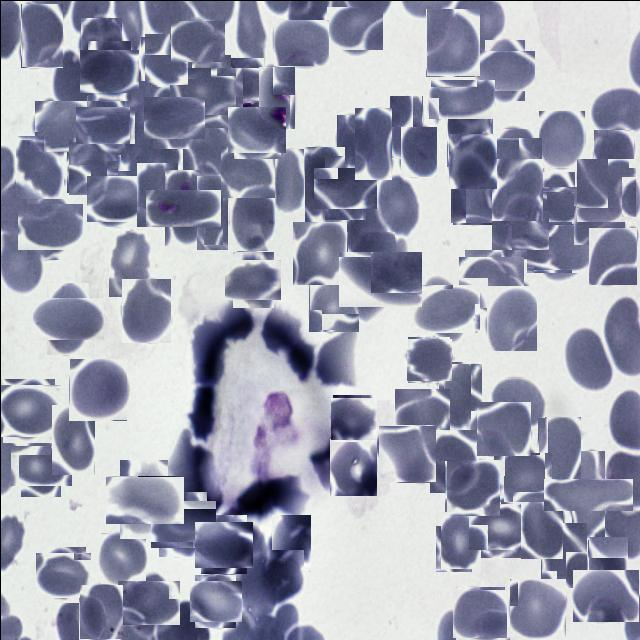red blood cell: (346, 244, 414, 314), (111, 467, 176, 530), (575, 158, 637, 220), (557, 464, 618, 525), (425, 8, 479, 76), (176, 60, 236, 121), (68, 358, 126, 420), (414, 278, 474, 337), (507, 579, 566, 638), (530, 218, 590, 276), (572, 569, 638, 621), (292, 221, 346, 284), (462, 252, 520, 310), (0, 381, 57, 440), (394, 388, 449, 449), (486, 285, 536, 350), (38, 290, 96, 346), (378, 424, 434, 482), (122, 278, 172, 342), (308, 267, 358, 331), (154, 179, 211, 235), (491, 158, 542, 220), (14, 135, 63, 199), (22, 198, 78, 254), (154, 496, 210, 552), (437, 361, 481, 432), (304, 146, 344, 224), (429, 429, 478, 492), (444, 459, 500, 514), (537, 416, 580, 487), (540, 522, 586, 588), (229, 183, 274, 250), (51, 404, 94, 474), (374, 172, 420, 237), (495, 449, 549, 504), (121, 576, 176, 630), (572, 188, 624, 245), (471, 499, 525, 553), (476, 401, 530, 455), (565, 328, 612, 390), (182, 117, 232, 175), (341, 200, 386, 264), (528, 178, 582, 231), (230, 102, 283, 156), (318, 160, 371, 213), (434, 511, 480, 572), (108, 230, 150, 296), (220, 146, 274, 197), (588, 227, 636, 284), (346, 231, 394, 288), (52, 45, 91, 115), (34, 100, 86, 152), (67, 142, 119, 194), (82, 44, 134, 96), (147, 90, 199, 142), (197, 518, 249, 570), (20, 3, 62, 67), (427, 79, 494, 119), (329, 438, 376, 495), (257, 549, 303, 607), (354, 107, 391, 179), (478, 44, 530, 95), (448, 133, 496, 188), (272, 19, 328, 66), (136, 162, 177, 226), (538, 110, 584, 167), (520, 496, 562, 558), (492, 376, 544, 426), (88, 172, 138, 224), (454, 588, 506, 638), (195, 170, 227, 250), (15, 440, 66, 490), (446, 111, 492, 166), (38, 549, 88, 599), (329, 3, 379, 53), (313, 329, 358, 384), (80, 17, 121, 77), (78, 584, 122, 639), (228, 254, 276, 304), (257, 66, 294, 129), (270, 514, 310, 572), (81, 100, 129, 148), (142, 34, 190, 82), (496, 205, 544, 253), (100, 532, 145, 583), (451, 175, 499, 222), (170, 20, 224, 61), (191, 577, 238, 624), (587, 536, 627, 591), (336, 114, 374, 170), (492, 132, 538, 178), (389, 95, 422, 158), (223, 62, 268, 107), (331, 395, 375, 440), (406, 337, 450, 381), (273, 148, 303, 212), (593, 129, 633, 174), (400, 126, 436, 176)
